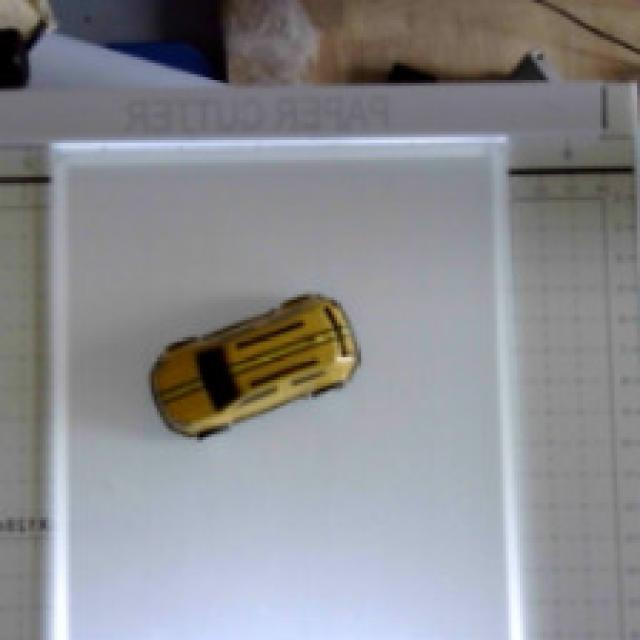Yellow Car: (125, 246, 389, 482), (121, 298, 392, 522)
